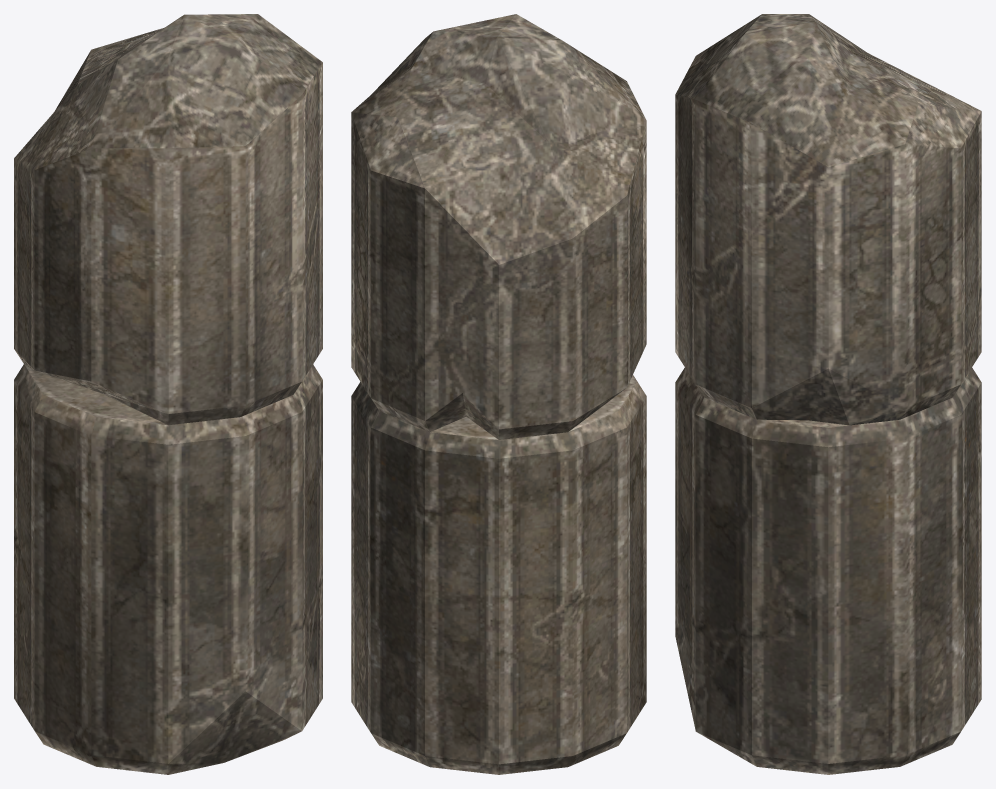
The model's file is bg_lut_lutomb_pillar04_sm_old.FBX.
The picture shows the model from 3 angles, left to right: view 1: azimuth 30°, elevation 25°; view 2: azimuth 150°, elevation 25°; view 3: azimuth 270°, elevation 25°; orthographic projection. The views are drawn at different scales.
Visible parts, largest first — view 1: bg_lut_lutomb_pillar04_sm_old; view 2: bg_lut_lutomb_pillar04_sm_old; view 3: bg_lut_lutomb_pillar04_sm_old.
Boxes of the visible parts, x1=… form: bg_lut_lutomb_pillar04_sm_old: x1=14, y1=14, x2=322, y2=774; bg_lut_lutomb_pillar04_sm_old: x1=351, y1=14, x2=646, y2=774; bg_lut_lutomb_pillar04_sm_old: x1=675, y1=14, x2=981, y2=774.
Bounding box in the file's own units: 128 × 321 × 128.
